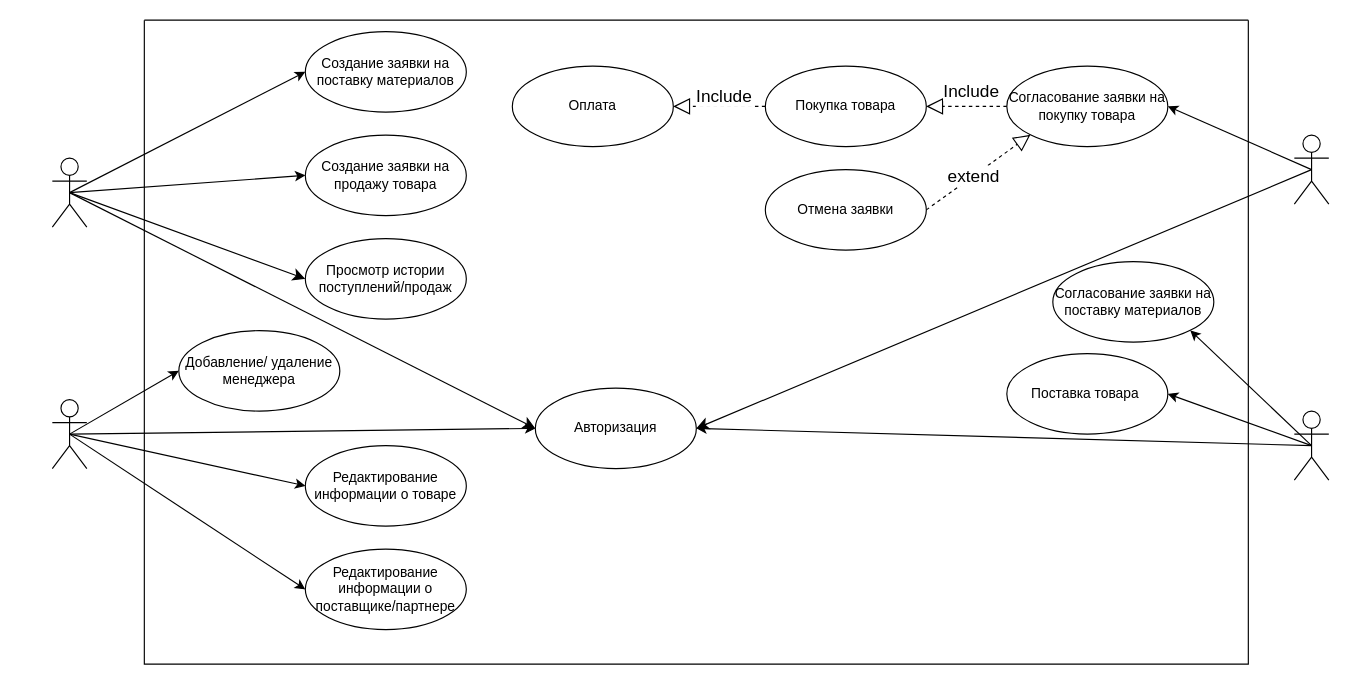
The diagram is 1367 pixels wide and 684 high, and some of its shapes have lost their labels. The centre of each missing label's shape, as x and y in pixels:
Администратор: point (69, 433)
Менеджер: point (69, 192)
Партнёр: point (1311, 169)
Поставщик: point (1311, 445)
